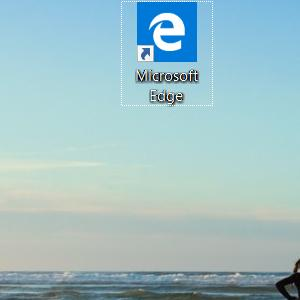edge: (137, 3, 197, 61)
